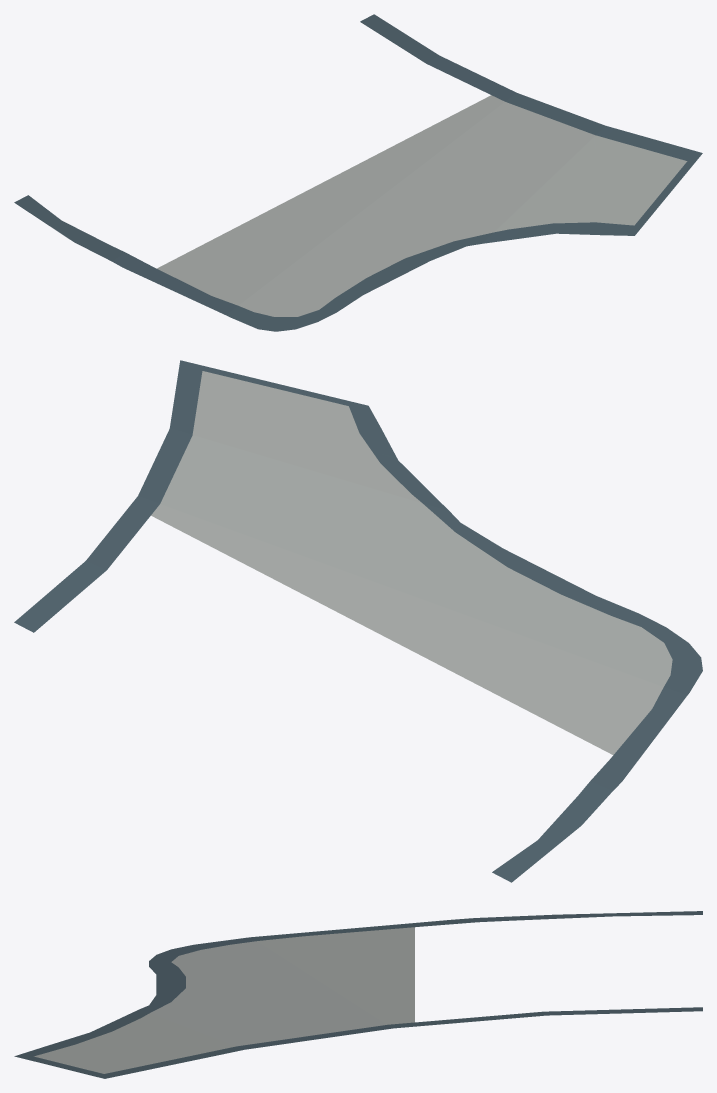
3 renders of one model, top to bottom at view 1: azimuth 30°, elevation 25°; view 2: azimuth 150°, elevation 25°; view 3: azimuth 270°, elevation 25°, orthographic. The views are drawn at different scales.
Parts seen in each view (by area): view 1: world; view 2: world; view 3: world.
Boxes of the visible parts, left/top/right/bottom form: world: left=14, top=14, right=702, bottom=331; world: left=14, top=360, right=702, bottom=882; world: left=14, top=911, right=702, bottom=1078.
Size of the model in its own units: 0.00493 by 0.00102 by 0.00476.
